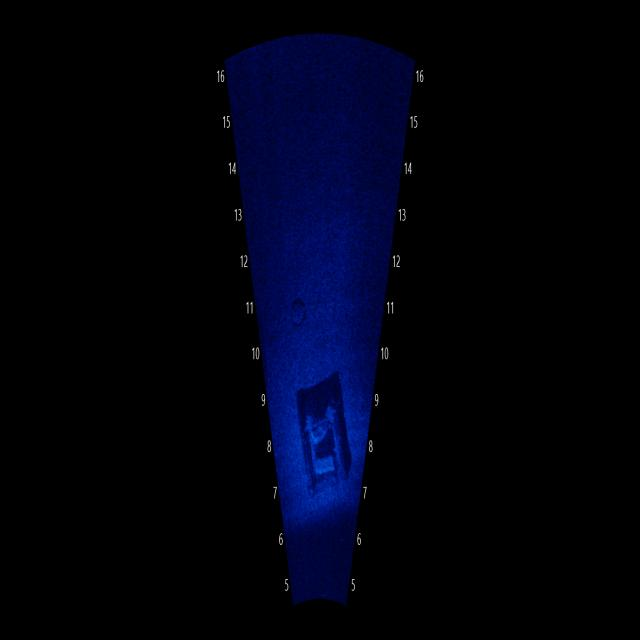square: (289, 361, 363, 508)
